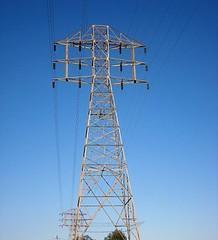power_tower: (51, 20, 155, 240)
